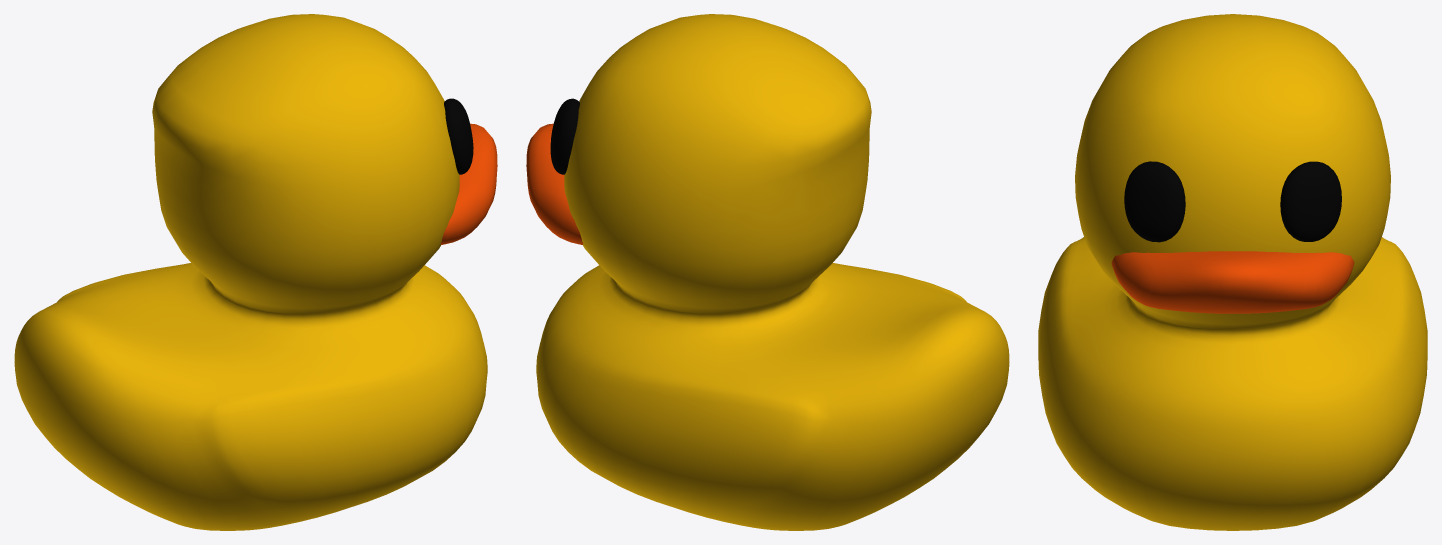
Rendered from RubberDuck.fbx.
The picture shows the model from 3 angles, left to right: view 1: azimuth 30°, elevation 25°; view 2: azimuth 150°, elevation 25°; view 3: azimuth 270°, elevation 25°; orthographic projection. The views are drawn at different scales.
Visible parts, largest first — view 1: Body, Beak, R.eye; view 2: Body, Beak, L.eye; view 3: Body, Beak, L.eye, R.eye.
Boxes of the visible parts, left/top/right/bottom form: Body: left=14, top=14, right=487, bottom=530; Beak: left=440, top=123, right=497, bottom=244; R.eye: left=444, top=98, right=473, bottom=174; Body: left=536, top=14, right=1009, bottom=530; Beak: left=526, top=123, right=583, bottom=244; L.eye: left=550, top=98, right=579, bottom=174; Body: left=1038, top=14, right=1427, bottom=530; Beak: left=1111, top=251, right=1354, bottom=313; L.eye: left=1280, top=161, right=1341, bottom=241; R.eye: left=1124, top=161, right=1185, bottom=242.
Size of the model in its own units: 394 by 382 by 282.
